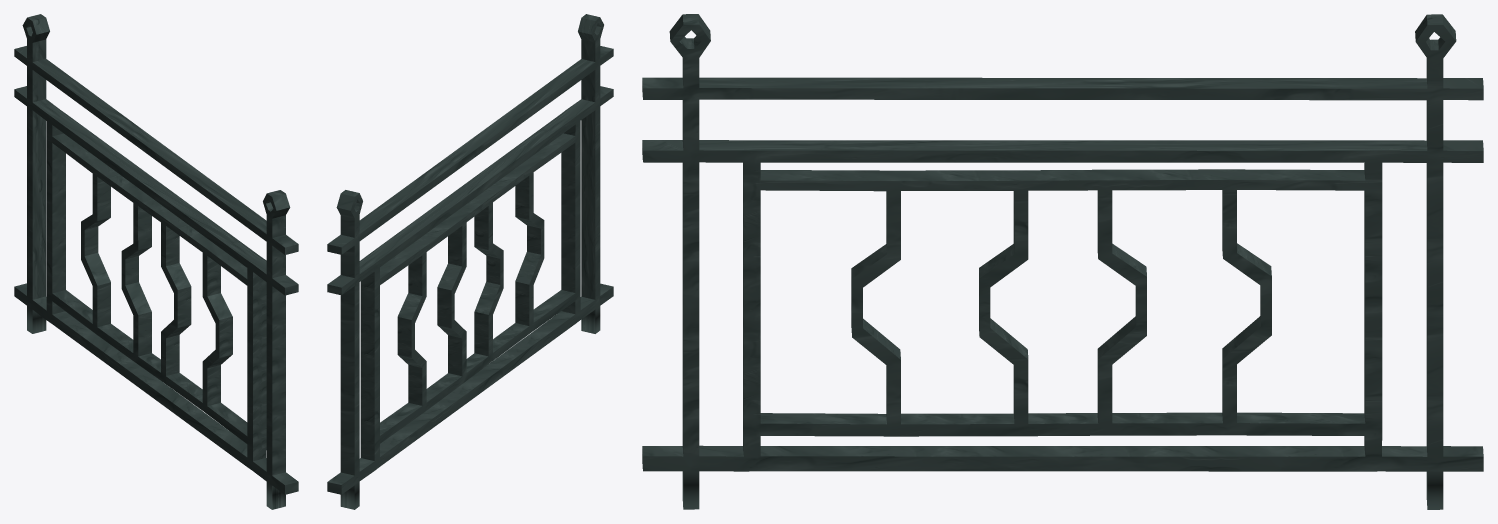
Rendered from railing_v001_model.fbx.
3 views of the same model, side by side, from view 1: azimuth 30°, elevation 25°; view 2: azimuth 150°, elevation 25°; view 3: azimuth 270°, elevation 25° (orthographic). The views are drawn at different scales.
Visible parts, largest first — view 1: railing_v001_model; view 2: railing_v001_model; view 3: railing_v001_model.
Boxes of the visible parts, bbox=[...] form: railing_v001_model: bbox=[14, 14, 298, 509]; railing_v001_model: bbox=[327, 14, 613, 509]; railing_v001_model: bbox=[642, 14, 1483, 509].
Size of the model in its own units: 9.1 by 163 by 256.
Materials: 1 (1 with a texture image).
